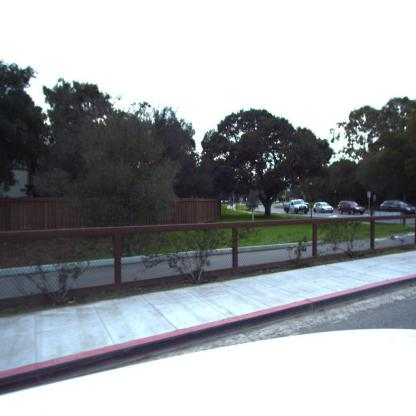car: (380, 201, 415, 213), (339, 201, 366, 214), (289, 200, 308, 214), (313, 202, 333, 214)
